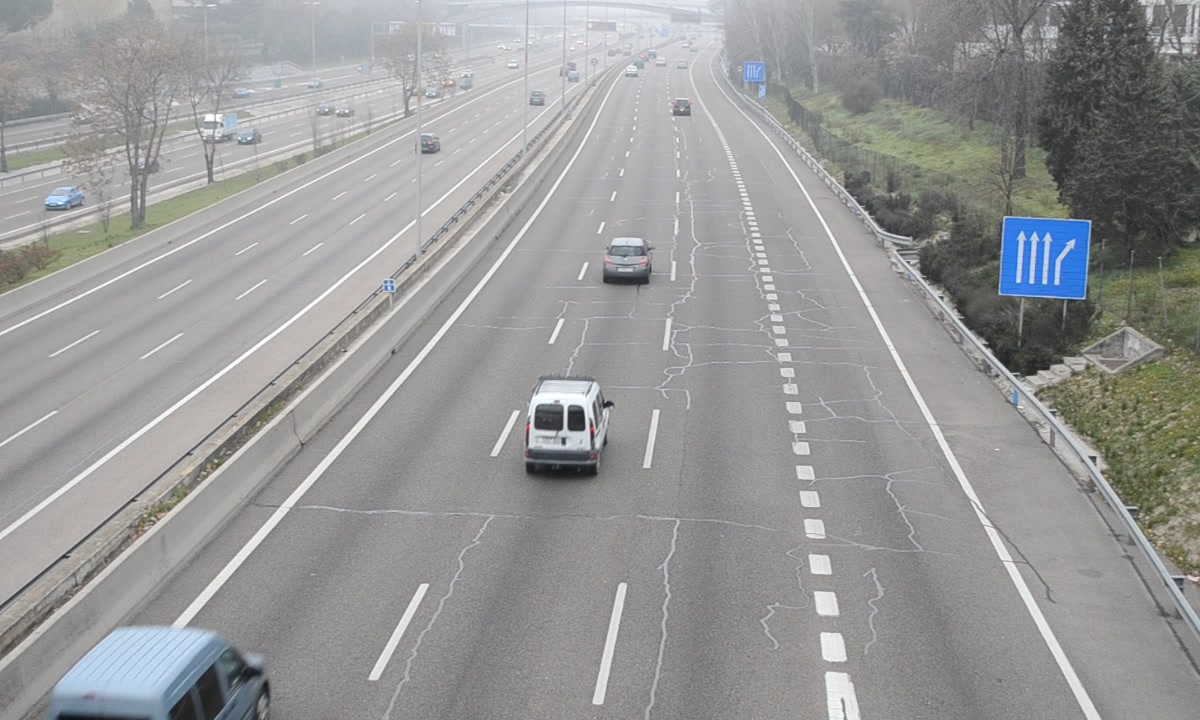car: (604, 237, 651, 281)
van: (40, 627, 268, 720), (526, 379, 611, 473)
